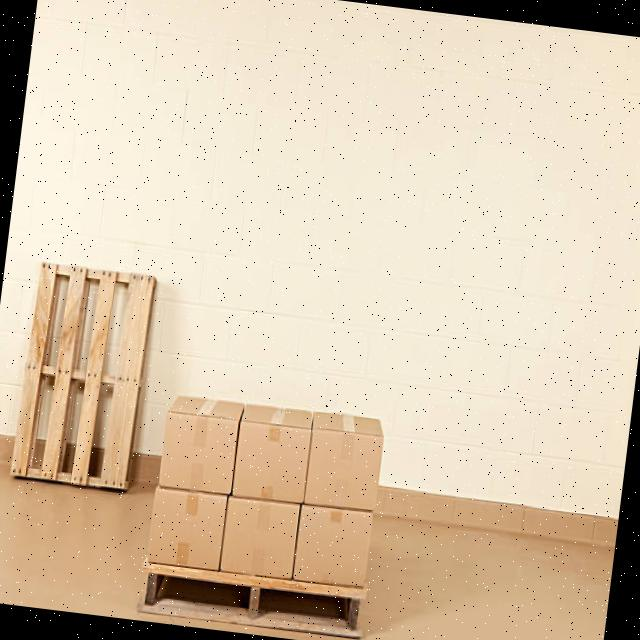Wooden-Pallets: (4, 257, 155, 500), (134, 560, 369, 640)
